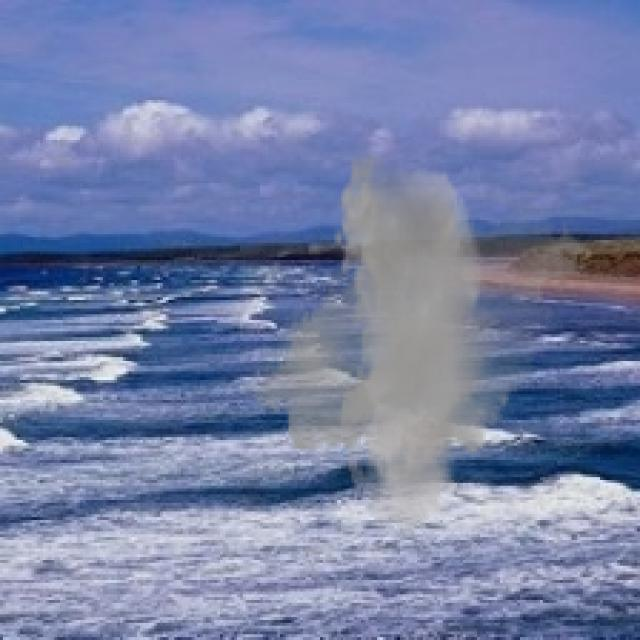smoke: (243, 152, 594, 532)
